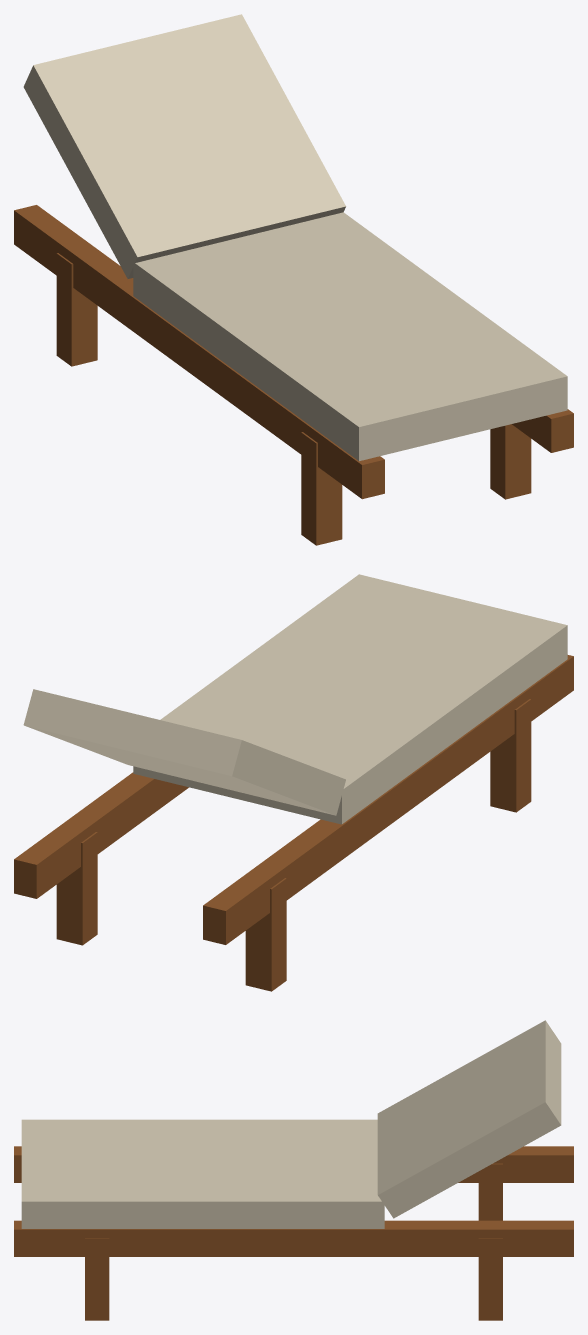
Rendered from sun_lounger.glb.
3 views of the same model, one above another, from view 1: azimuth 30°, elevation 25°; view 2: azimuth 150°, elevation 25°; view 3: azimuth 270°, elevation 25° (orthographic). The views are drawn at different scales.
Parts seen in each view (by area): view 1: sun_lounger_pc; view 2: sun_lounger_pc; view 3: sun_lounger_pc.
Boxes of the visible parts, x1=… form: sun_lounger_pc: x1=14, y1=14, x2=573, y2=545; sun_lounger_pc: x1=14, y1=574, x2=573, y2=991; sun_lounger_pc: x1=14, y1=1020, x2=573, y2=1320.
Bounding box in the file's own units: 0.66 × 0.7925 × 1.85.
